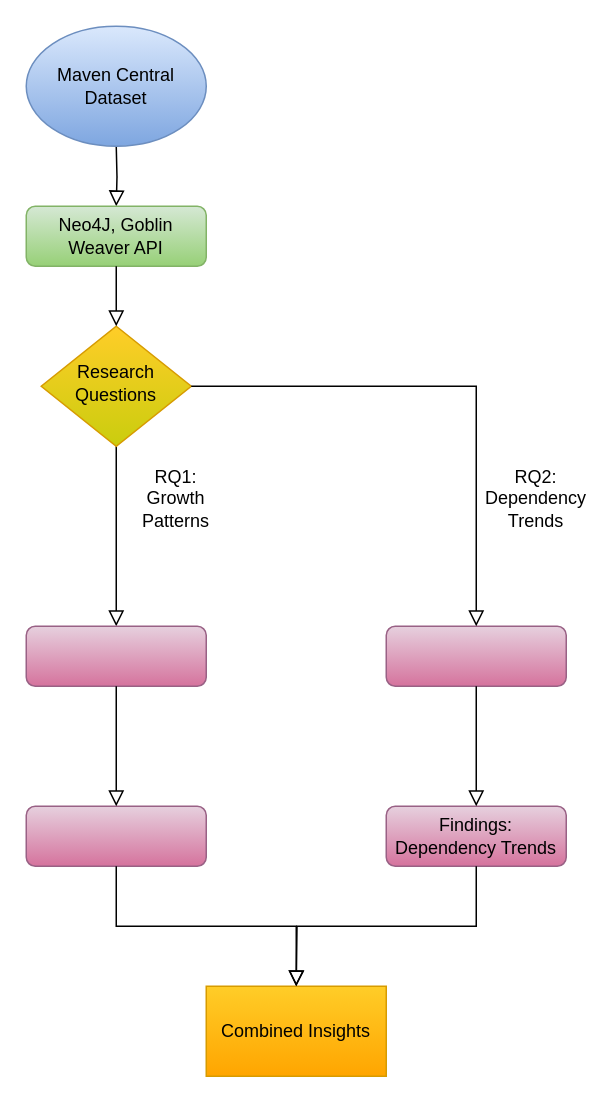
The diagram is 612 pixels wide and 1103 high, and some of its shapes have lost their labels. The shapes that lost their labels are listed below. From the top down, each one's centre as x and y in pixels, then its label:
At (115,655): "Cypher Queries".
At (475,655): "Metric Calculations".
At (115,835): "Findings: Growth Patterns".
